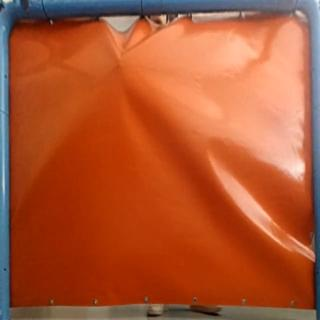Hit-hRxx: (113, 50, 127, 66)
